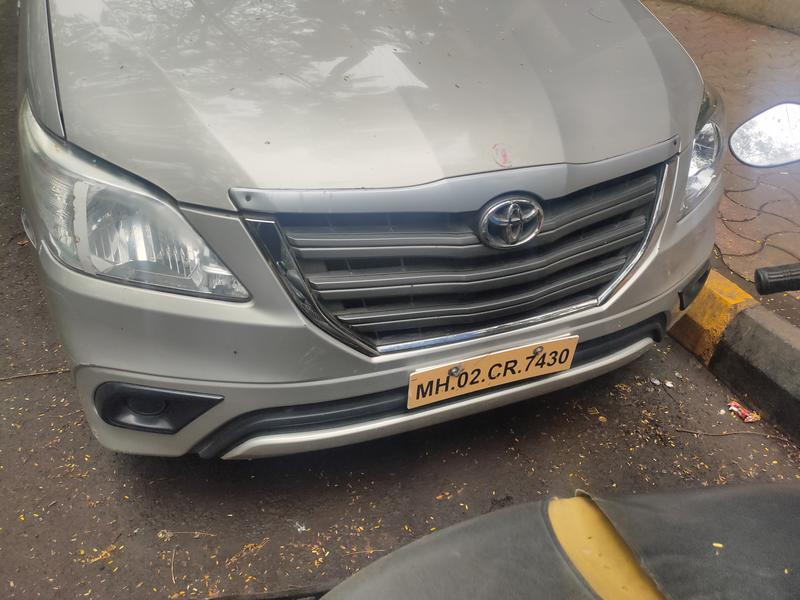license_plate: (399, 324, 579, 423)
